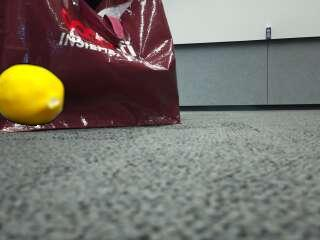lemon: (1, 65, 65, 126)
